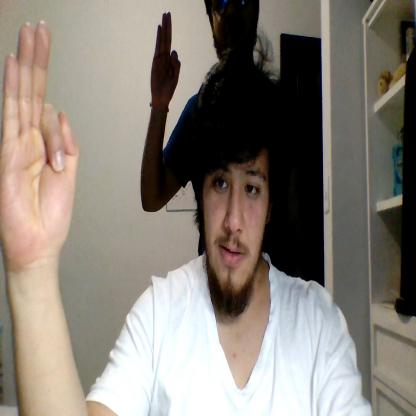F: (0, 18, 79, 267), (151, 10, 181, 104)
